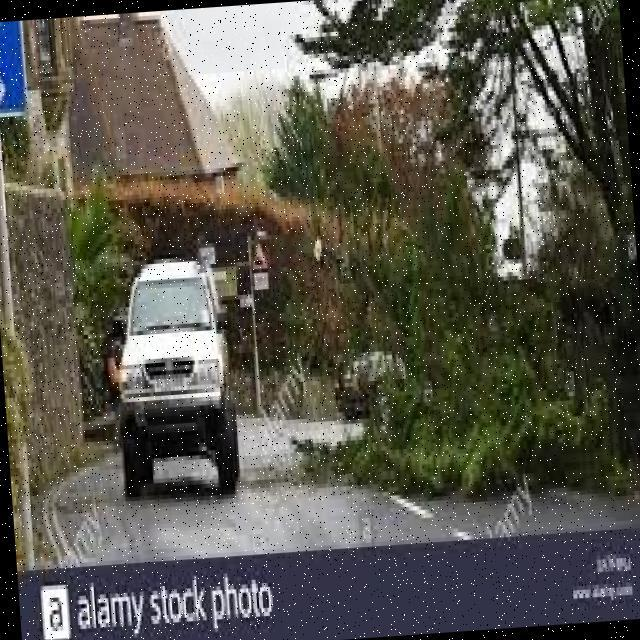fallen_object: (316, 256, 640, 502)
